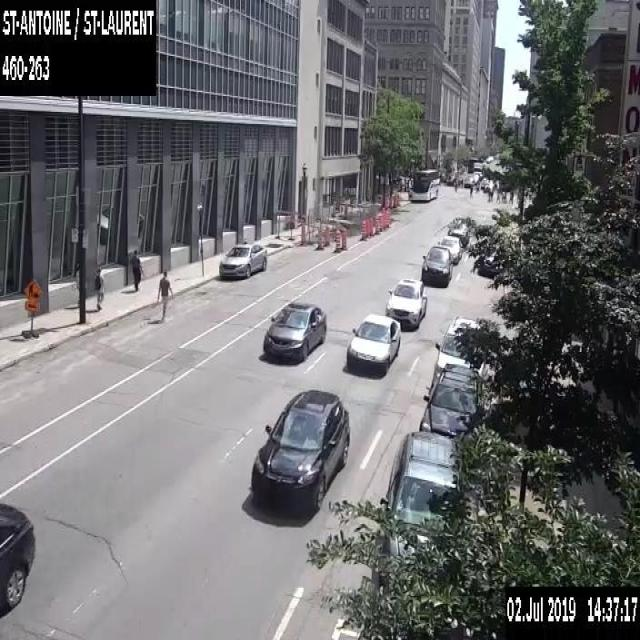bus: (408, 167, 440, 201)
construction: (21, 276, 43, 337), (274, 210, 304, 239), (334, 230, 341, 251), (316, 229, 323, 249), (360, 220, 366, 239), (341, 230, 347, 249), (300, 225, 306, 244), (374, 214, 379, 234), (368, 216, 373, 235), (363, 218, 368, 237), (325, 225, 330, 244), (322, 228, 327, 246), (381, 211, 385, 229), (378, 212, 382, 230), (384, 210, 388, 227)
pedestrian: (156, 268, 174, 320), (128, 247, 141, 289), (92, 264, 104, 309), (508, 190, 513, 203), (453, 179, 458, 192), (495, 190, 500, 202), (468, 184, 472, 198), (501, 190, 505, 203), (487, 188, 490, 201), (490, 189, 493, 201)
vehicle: (376, 430, 459, 597), (249, 384, 352, 516), (418, 362, 484, 438), (0, 499, 37, 613), (262, 298, 326, 362), (431, 314, 488, 384), (346, 312, 401, 369), (384, 277, 427, 326), (218, 240, 266, 277), (421, 245, 452, 283), (436, 234, 462, 263), (447, 222, 468, 245), (445, 174, 462, 185), (463, 174, 473, 187), (480, 176, 489, 187), (469, 173, 478, 183)
